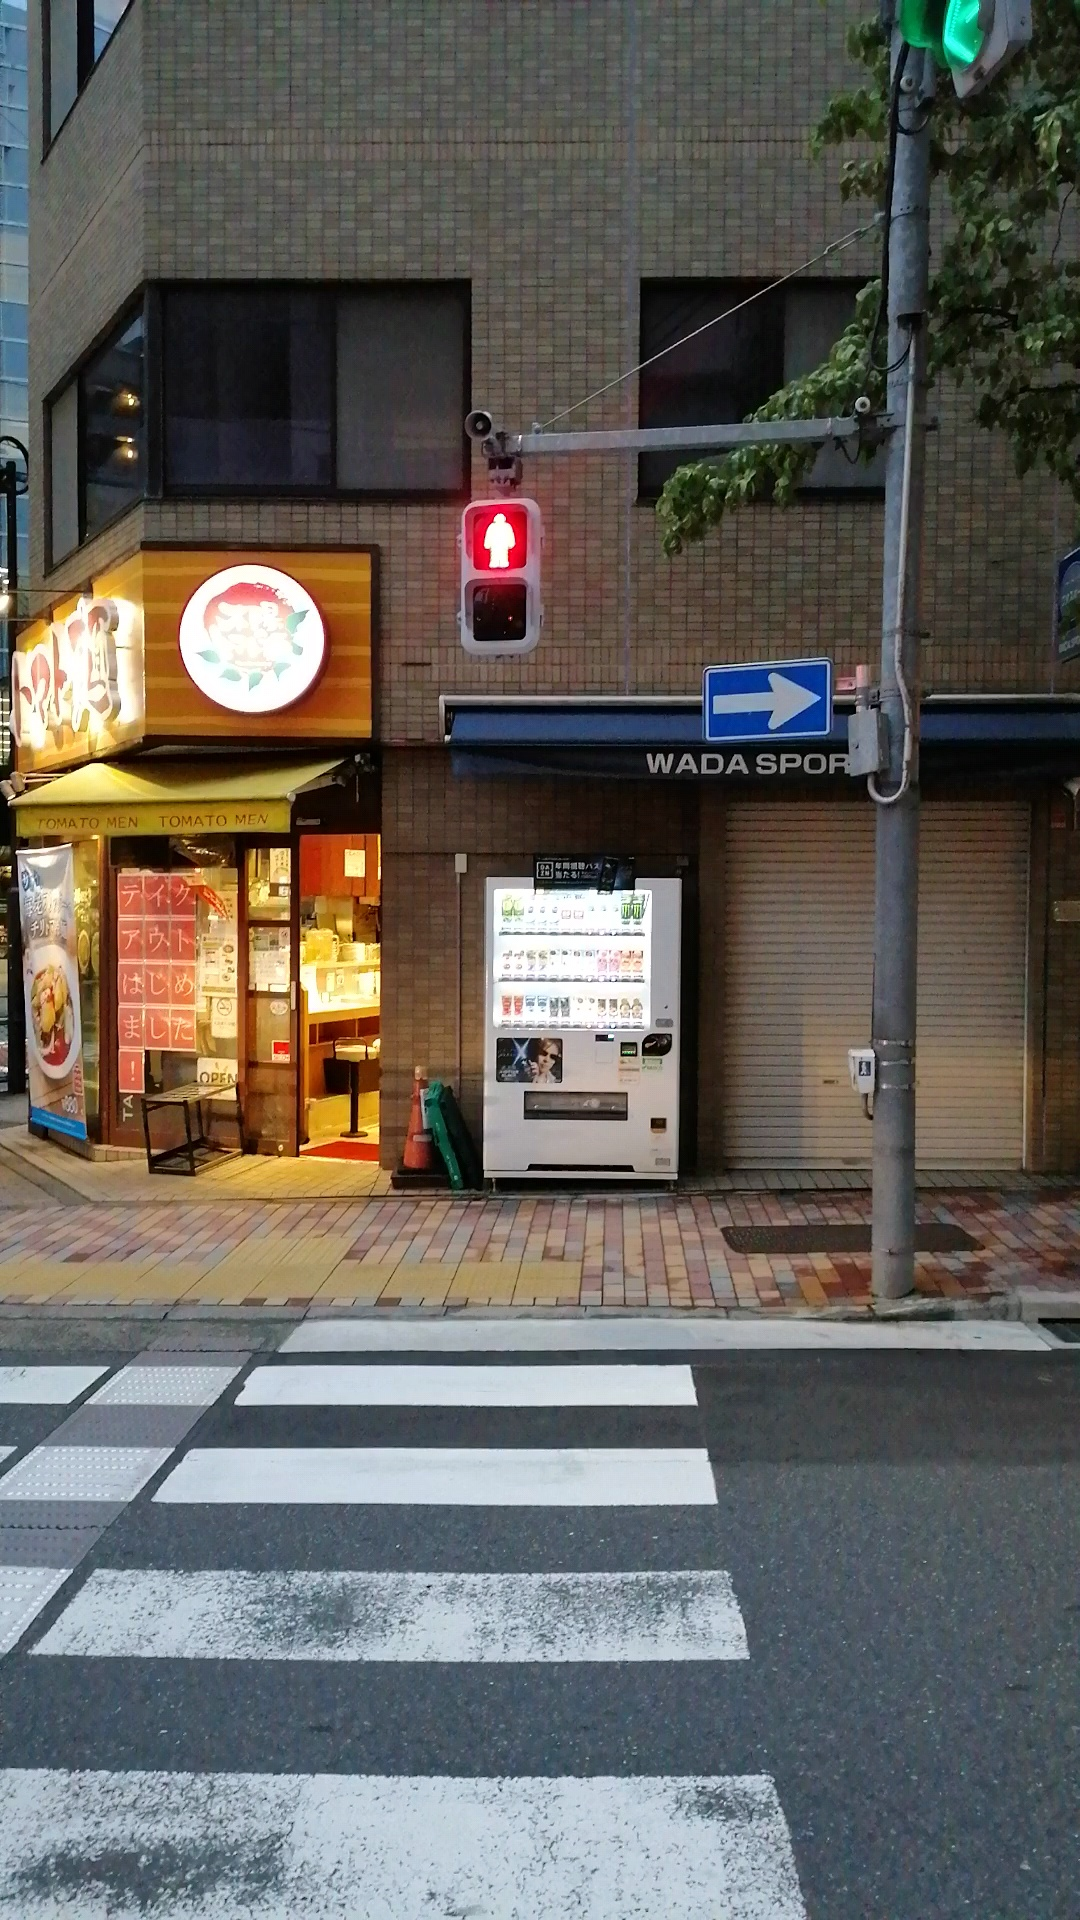red: (463, 497, 541, 654)
